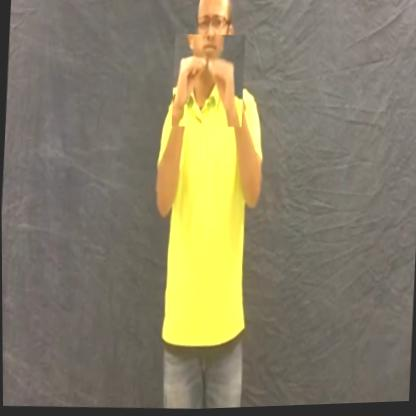Fix: (171, 33, 245, 131)
